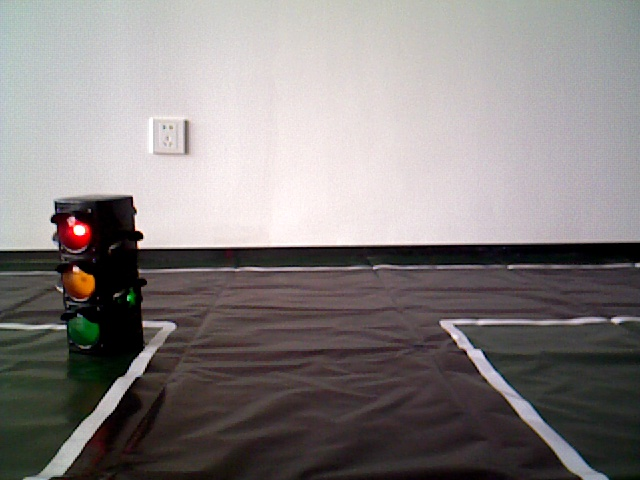red: (52, 204, 137, 357)
